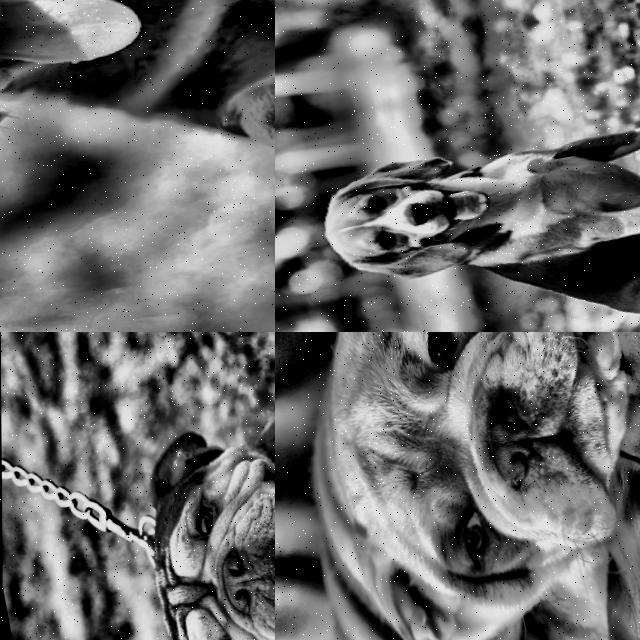beagle: (297, 124, 540, 304)
bulldog: (275, 332, 640, 640), (93, 381, 275, 640)
rottweiler: (0, 0, 194, 214)
